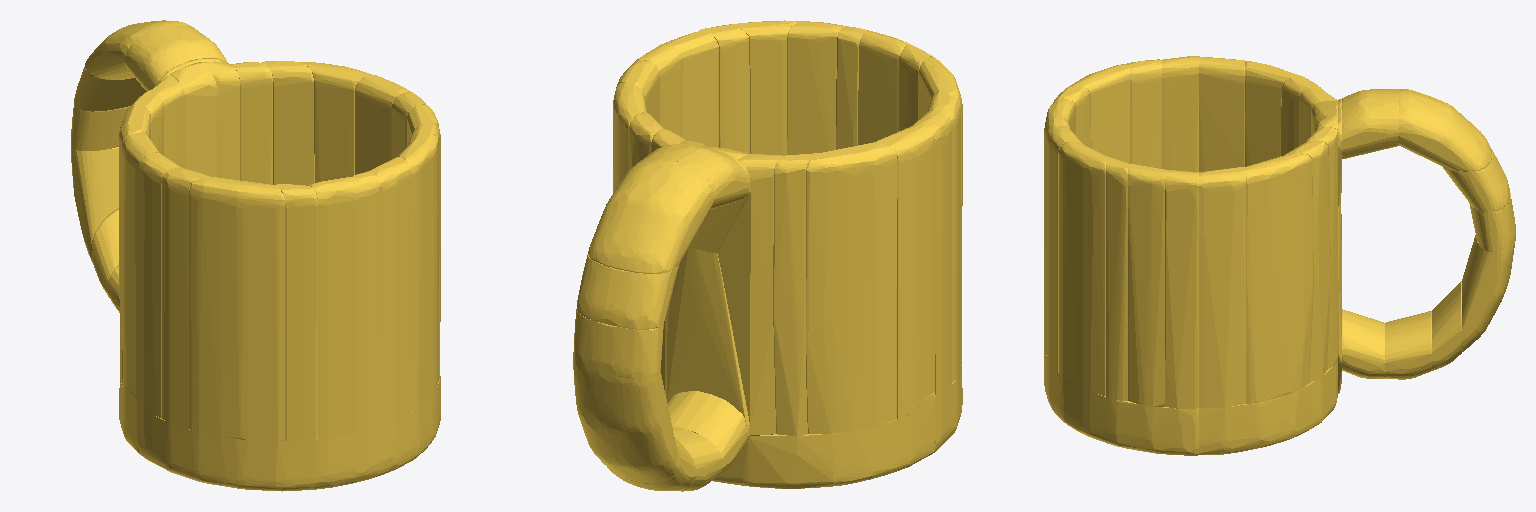
URDF robot description (471.urdf):
<?xml version="1.0" ?>
<robot name="471.urdf">
	<link name="baseLink">
		<inertial>
			<origin rpy="0 0 0" xyz="0 0 0"/>
				<mass value="0.1"/>
				<inertia ixx="6e-5" ixy="0" ixz="0" iyy="6e-5" iyz="0" izz="6e-5"/>
		</inertial>
		<visual>
			<origin rpy="0 0 0" xyz="0 0 0"/>
			<geometry>
				<mesh filename="32_decom_wt.obj" scale="0.87 0.87 1.05"/>
			</geometry>
			<material name="yellow">
				<color rgba="0.98 0.84 0.35 1"/>
			</material>
		</visual>
		<collision>
			<origin rpy="0 0 0" xyz="0 0 0"/>
			<geometry>
				<mesh filename="32_decom_wt.obj" scale="0.87 0.87 1.05"/>
			</geometry>
		</collision>
	</link>
</robot>

--- What the picture shows (computed from the rendered views, not written in the file) ---
Views: 3 orthographic renders of the robot side by side, from view 1: azimuth 30°, elevation 25°; view 2: azimuth 150°, elevation 25°; view 3: azimuth 270°, elevation 25°.
Robot: 471.urdf — 1 links, 0 joints (none); root link baseLink; default pose: every joint at zero.
Visible links, largest first — view 1: baseLink; view 2: baseLink; view 3: baseLink.
Link boxes in pixels (<box>): baseLink: <box>71,20,440,491</box>; baseLink: <box>573,20,962,491</box>; baseLink: <box>1044,56,1515,455</box>.
Size in the robot's own frame: 0.0829 by 0.1308 by 0.0914 metres.
1 mesh visuals loaded from 1 distinct referenced files (1 OBJ).